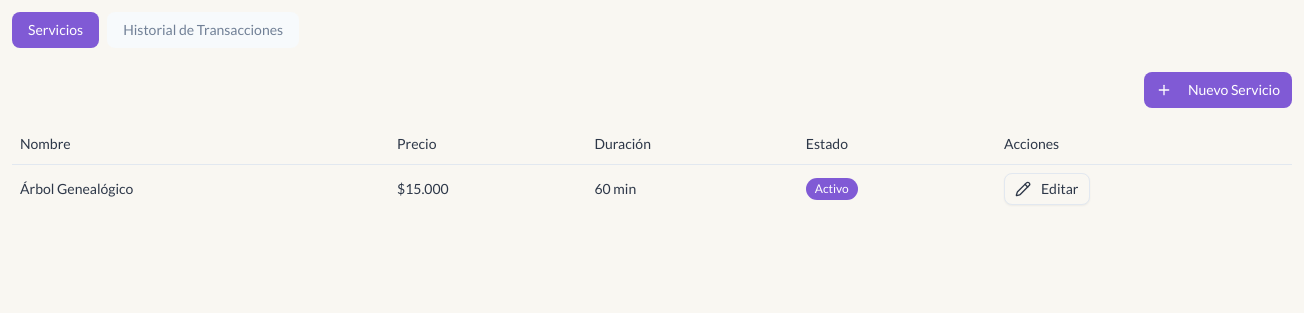
Test: HolisticServicesManagement › should show loading skeleton while loading transactions
Click the tab "Historial de Transacciones": (203, 30) x1=107 y1=12 x2=299 y2=48
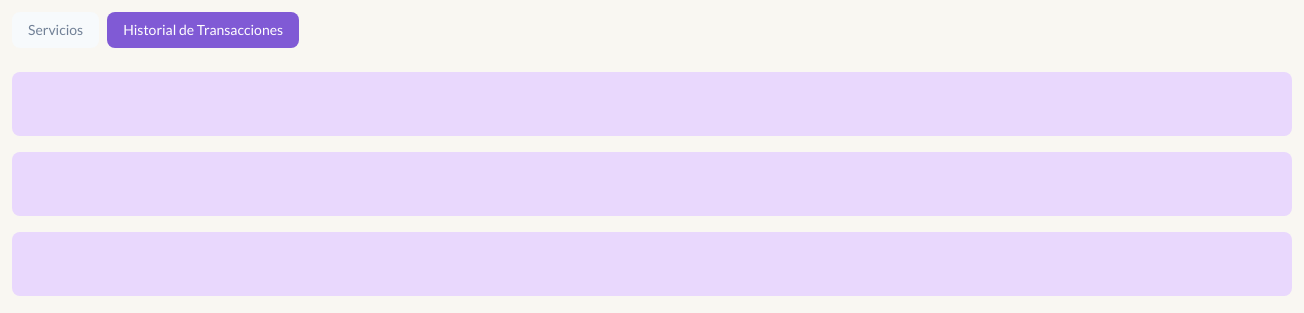
Now the element with test id "transactions-loading" is shown
